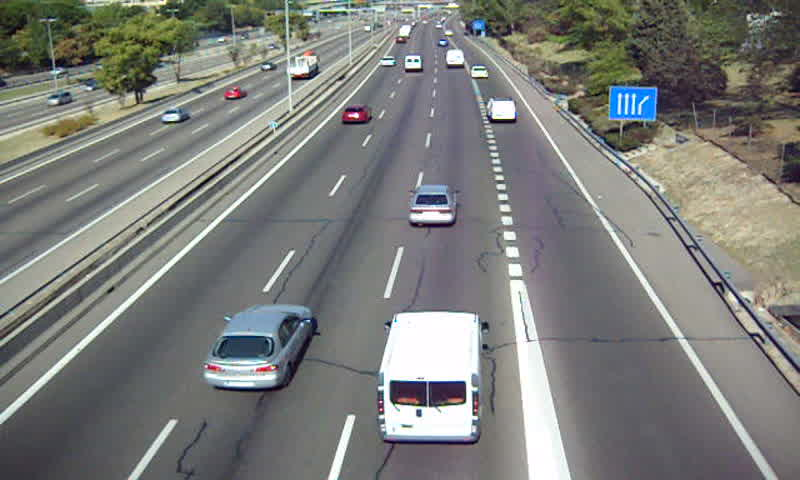car: (203, 305, 314, 392), (408, 184, 457, 225), (341, 106, 372, 124), (470, 64, 490, 79), (378, 54, 396, 67)
van: (376, 311, 483, 444), (488, 97, 517, 123), (445, 49, 465, 68), (403, 54, 422, 72)
